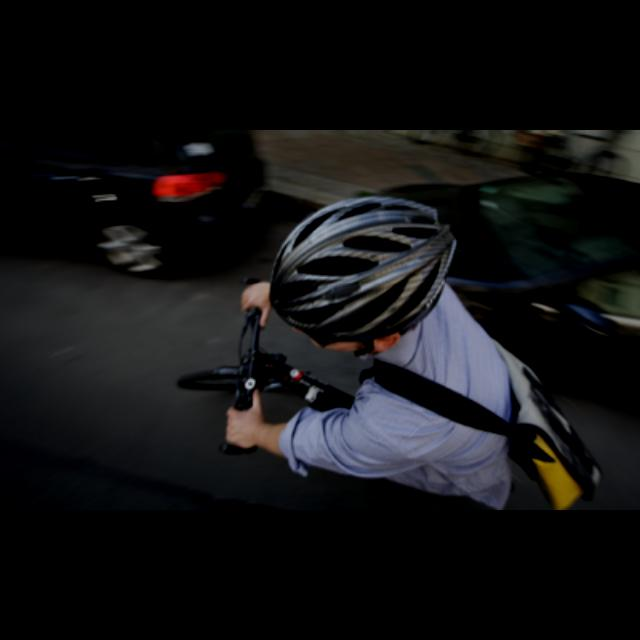With Helmet: (267, 188, 461, 346)
